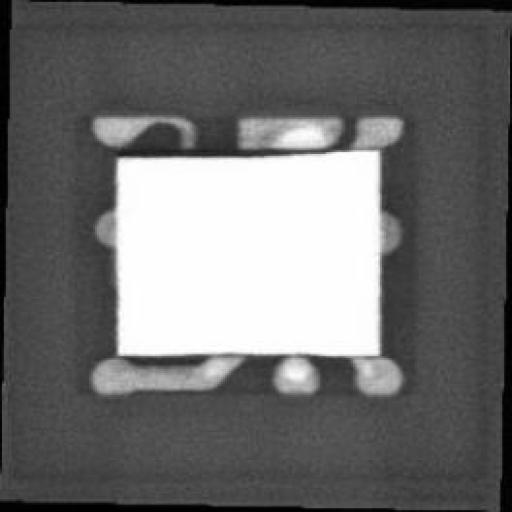DIE_BROKEN: (111, 143, 312, 158)
